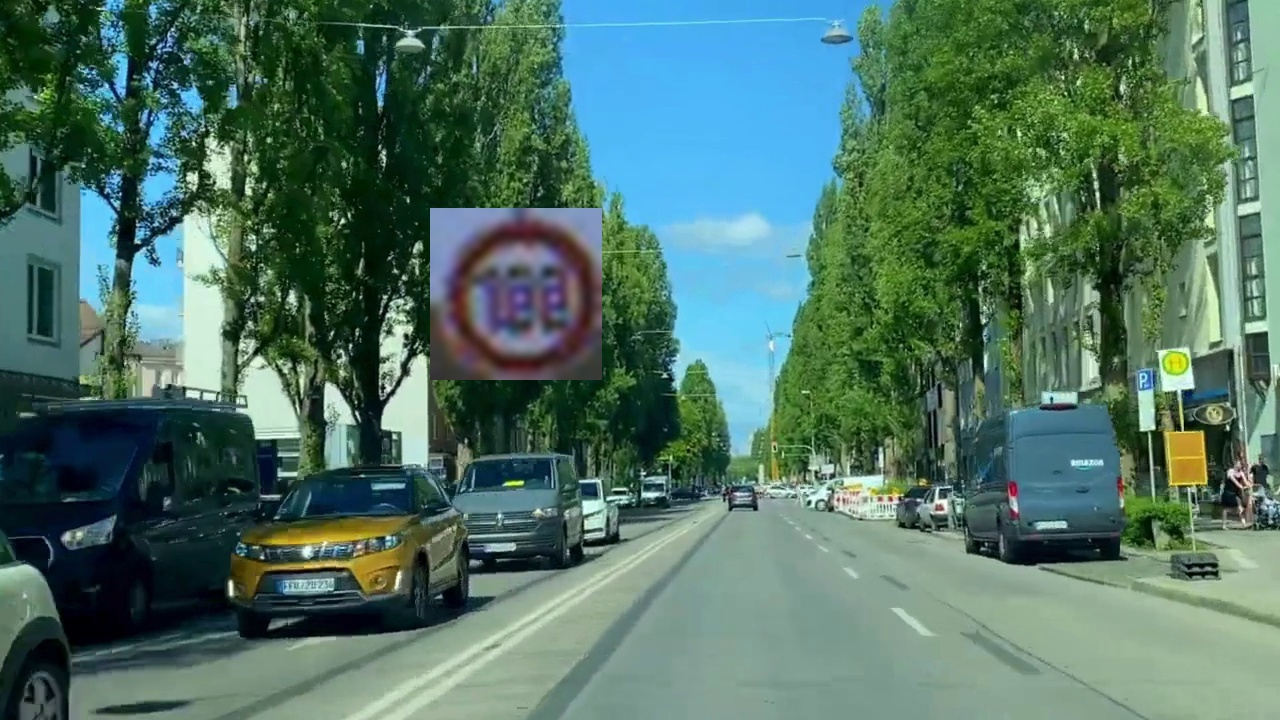Speed 100: (430, 208, 602, 380)
